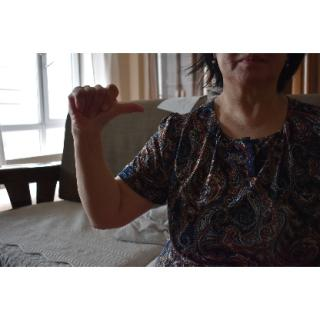DAD: (63, 84, 148, 144)
